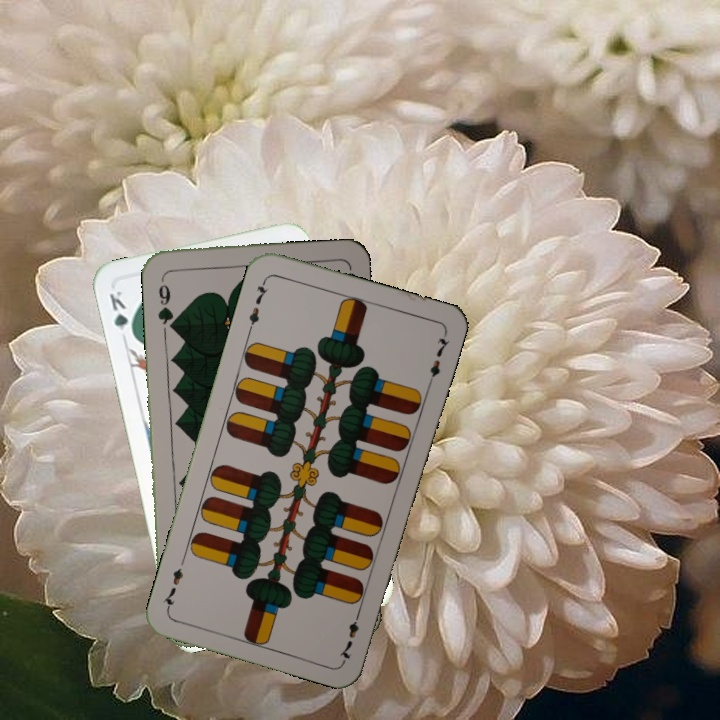E7: (335, 605, 364, 663), (244, 275, 271, 333)
G9: (153, 280, 178, 331)
GK: (105, 286, 137, 341)
